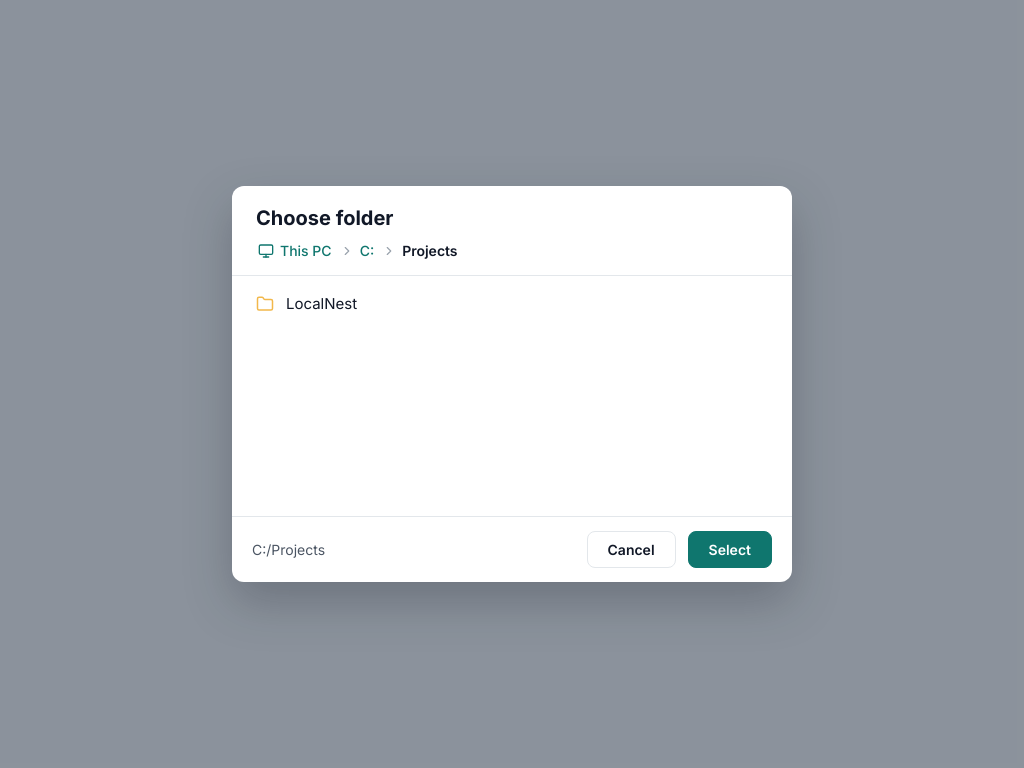
Test case: FolderPickerDialog › navigates up through a breadcrumb segment
The image size is (1024, 768).
Expected: the button "LocalNest" is shown, [244,284,780,323]
Step 1. Click the button "C:" → (367, 250), box [354,238,380,263]
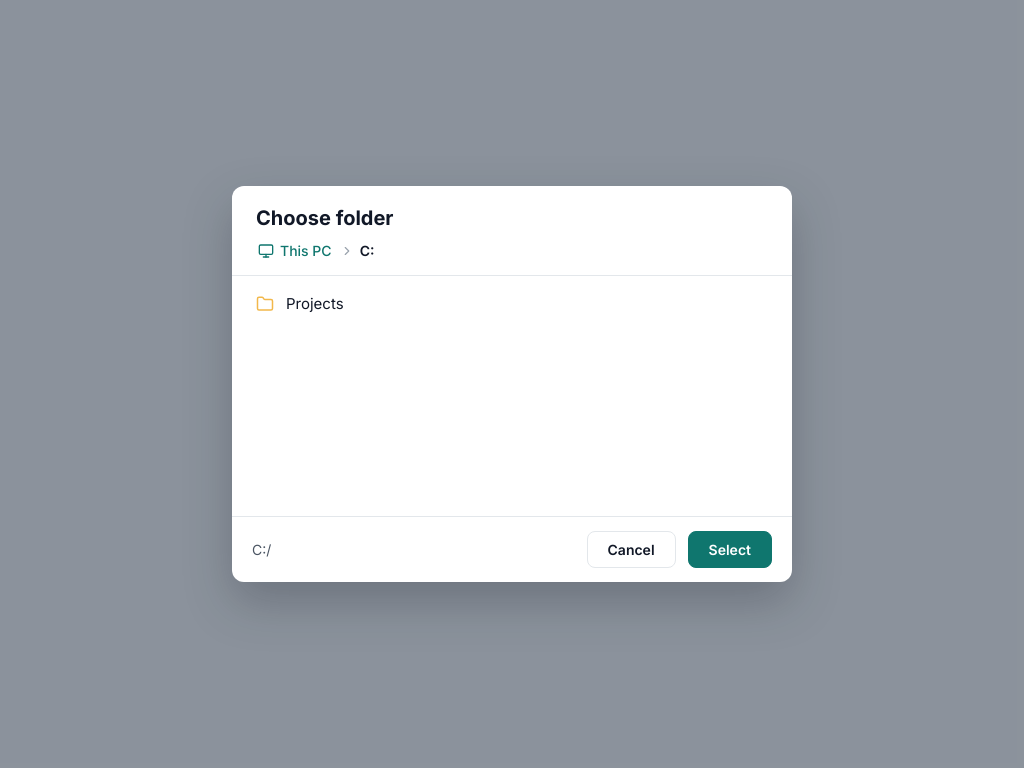
Result: the button "Projects" is shown at [244,284,780,323]
